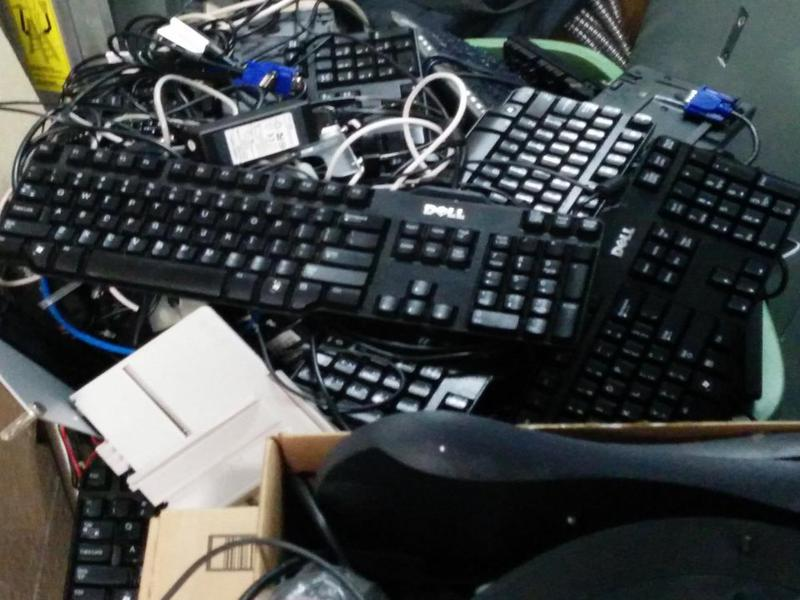keyboard: (1, 134, 610, 365), (523, 133, 800, 444)
